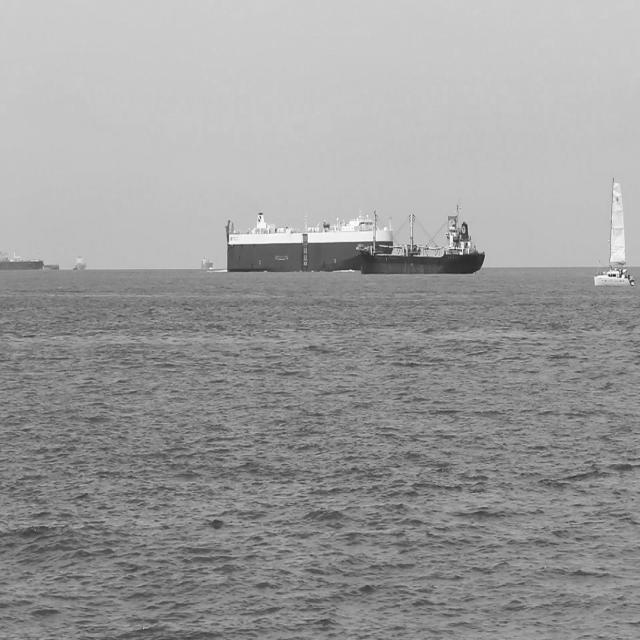boat: (592, 169, 636, 288)
ship: (222, 206, 396, 276), (354, 197, 488, 278), (0, 248, 48, 276), (70, 250, 88, 274), (199, 253, 214, 274)
